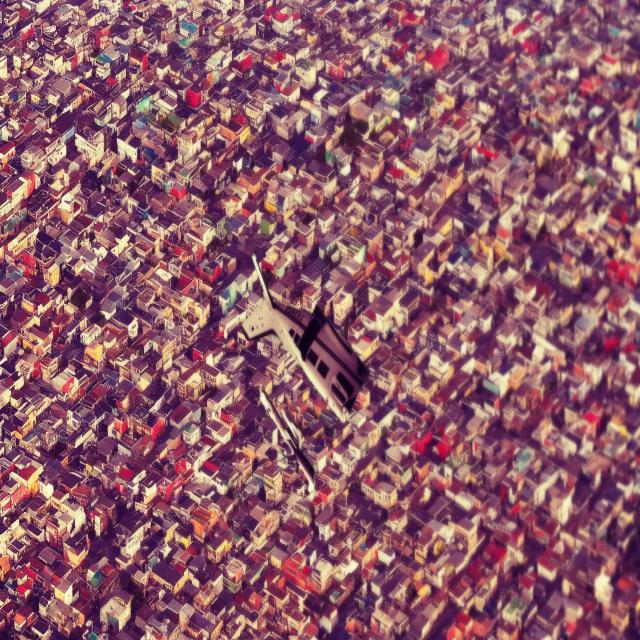airplane: (238, 252, 369, 423), (257, 388, 316, 492)
